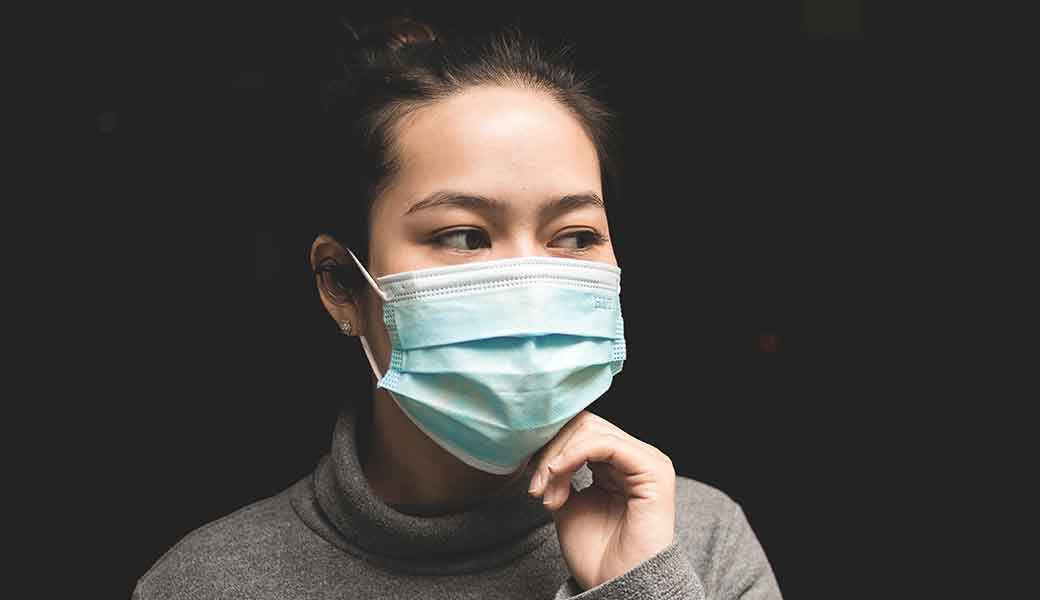mask: (373, 268, 660, 439)
